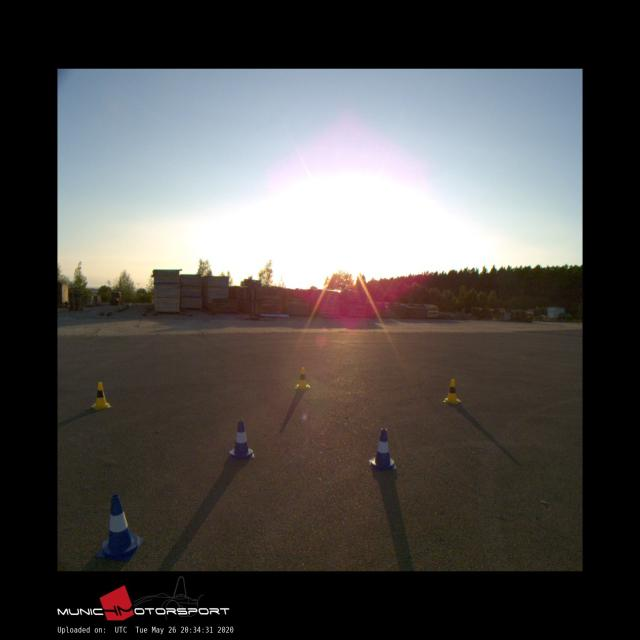blue_cone: (97, 494, 143, 562), (368, 427, 396, 469), (228, 420, 254, 460)
yellow_cone: (91, 381, 110, 408), (443, 379, 460, 403), (296, 367, 308, 388)
